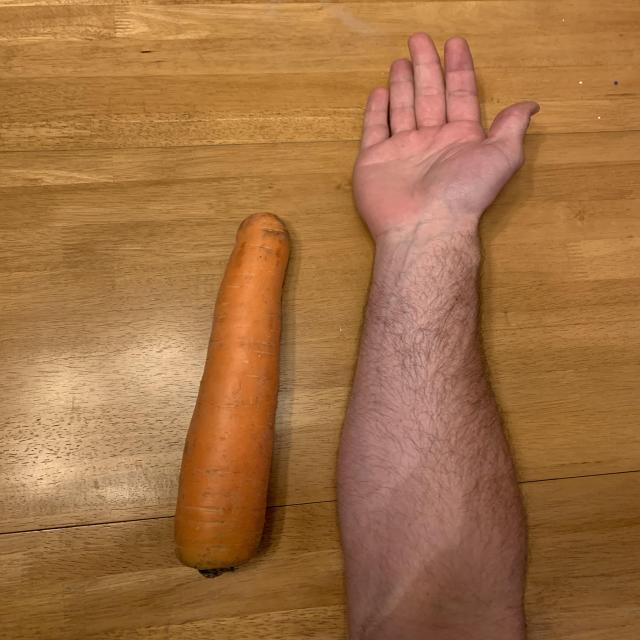Carrot: (172, 211, 312, 579)
